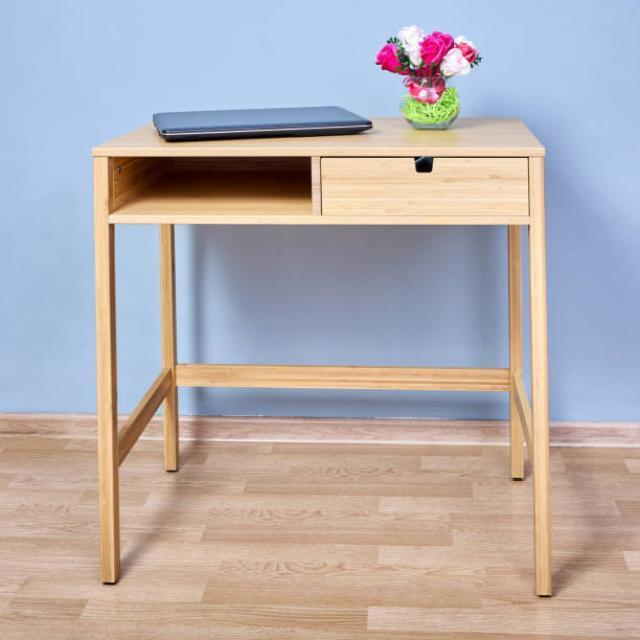table: (91, 114, 553, 596)
